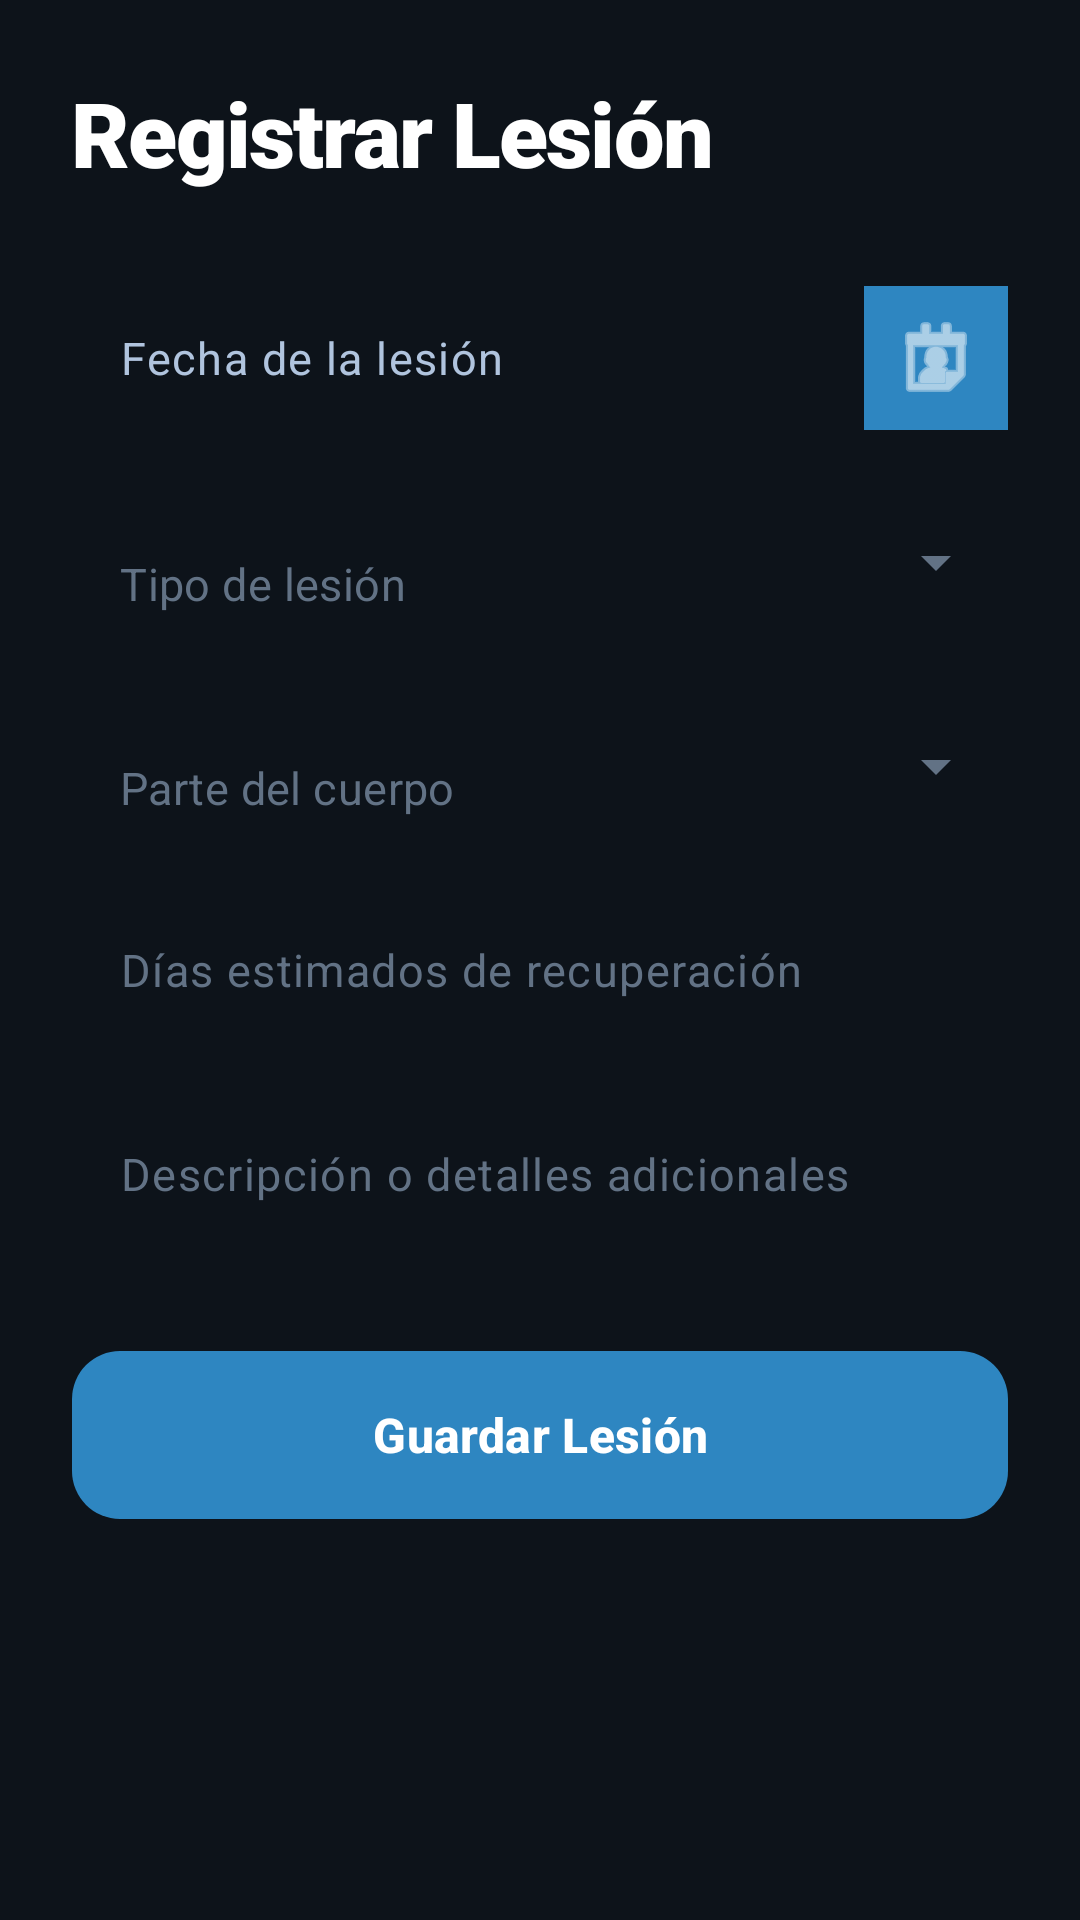

Icons on this 1080 × 1920 Android screen, each with its box as rect(x1, y1, x2, y2):
calendar: rect(864, 286, 1008, 430)
